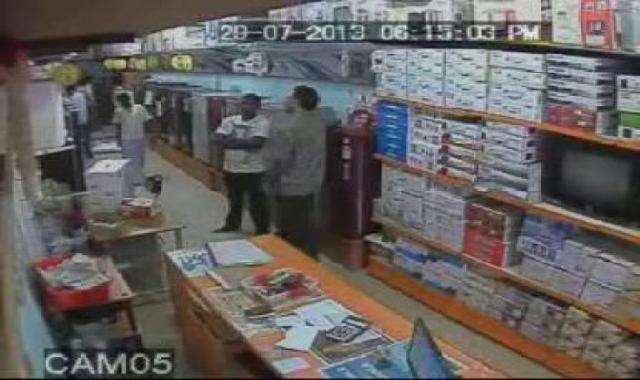hairnet: (283, 82, 330, 110)
